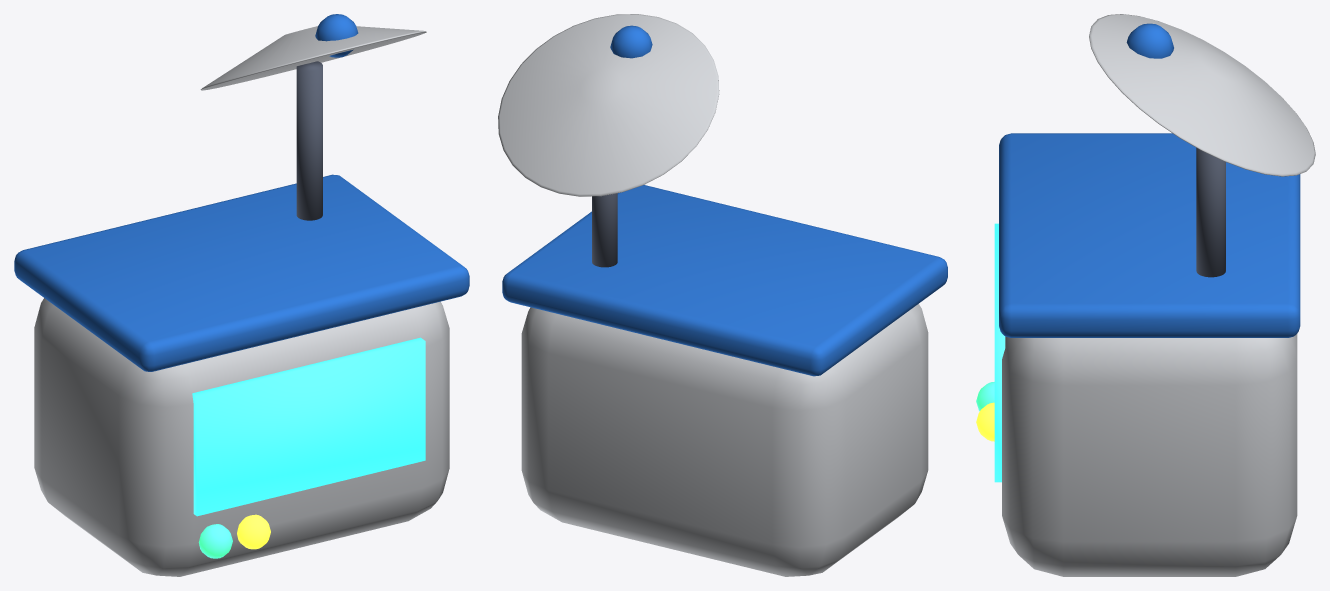
File: Item_Comms.glb
The picture shows the model from 3 angles, left to right: view 1: azimuth 30°, elevation 25°; view 2: azimuth 150°, elevation 25°; view 3: azimuth 270°, elevation 25°; orthographic projection. The views are drawn at different scales.
Visible parts, largest first — view 1: Item_Comms.Body, Item_Comms.Stripe, Item_Comms.Face, Item_Comms.Dish, Item_Comms.Mast, Item_Comms.Feed, Item_Comms.Led, Item_Comms.Led.001; view 2: Item_Comms.Body, Item_Comms.Stripe, Item_Comms.Dish, Item_Comms.Mast, Item_Comms.Feed; view 3: Item_Comms.Body, Item_Comms.Stripe, Item_Comms.Dish, Item_Comms.Mast, Item_Comms.Face, Item_Comms.Feed, Item_Comms.Led.001.
Boxes of the visible parts, x1,y1,x2,y2 form: Item_Comms.Body: (34,298,449,576); Item_Comms.Stripe: (14,174,469,371); Item_Comms.Face: (192,337,425,516); Item_Comms.Dish: (200,26,426,90); Item_Comms.Mast: (296,61,322,220); Item_Comms.Feed: (315,14,358,57); Item_Comms.Led: (198,524,232,558); Item_Comms.Led.001: (237,514,270,549); Item_Comms.Body: (521,304,928,576); Item_Comms.Stripe: (502,185,947,376); Item_Comms.Dish: (498,14,719,196); Item_Comms.Mast: (592,193,617,267); Item_Comms.Feed: (610,25,652,58); Item_Comms.Body: (1002,334,1297,576); Item_Comms.Stripe: (999,133,1300,337); Item_Comms.Dish: (1089,14,1315,176); Item_Comms.Mast: (1196,148,1225,277); Item_Comms.Face: (994,223,1005,482); Item_Comms.Feed: (1126,23,1173,58); Item_Comms.Led.001: (976,402,994,441).
Size of the model in its own units: 0.3788 by 0.48 by 0.2761.
